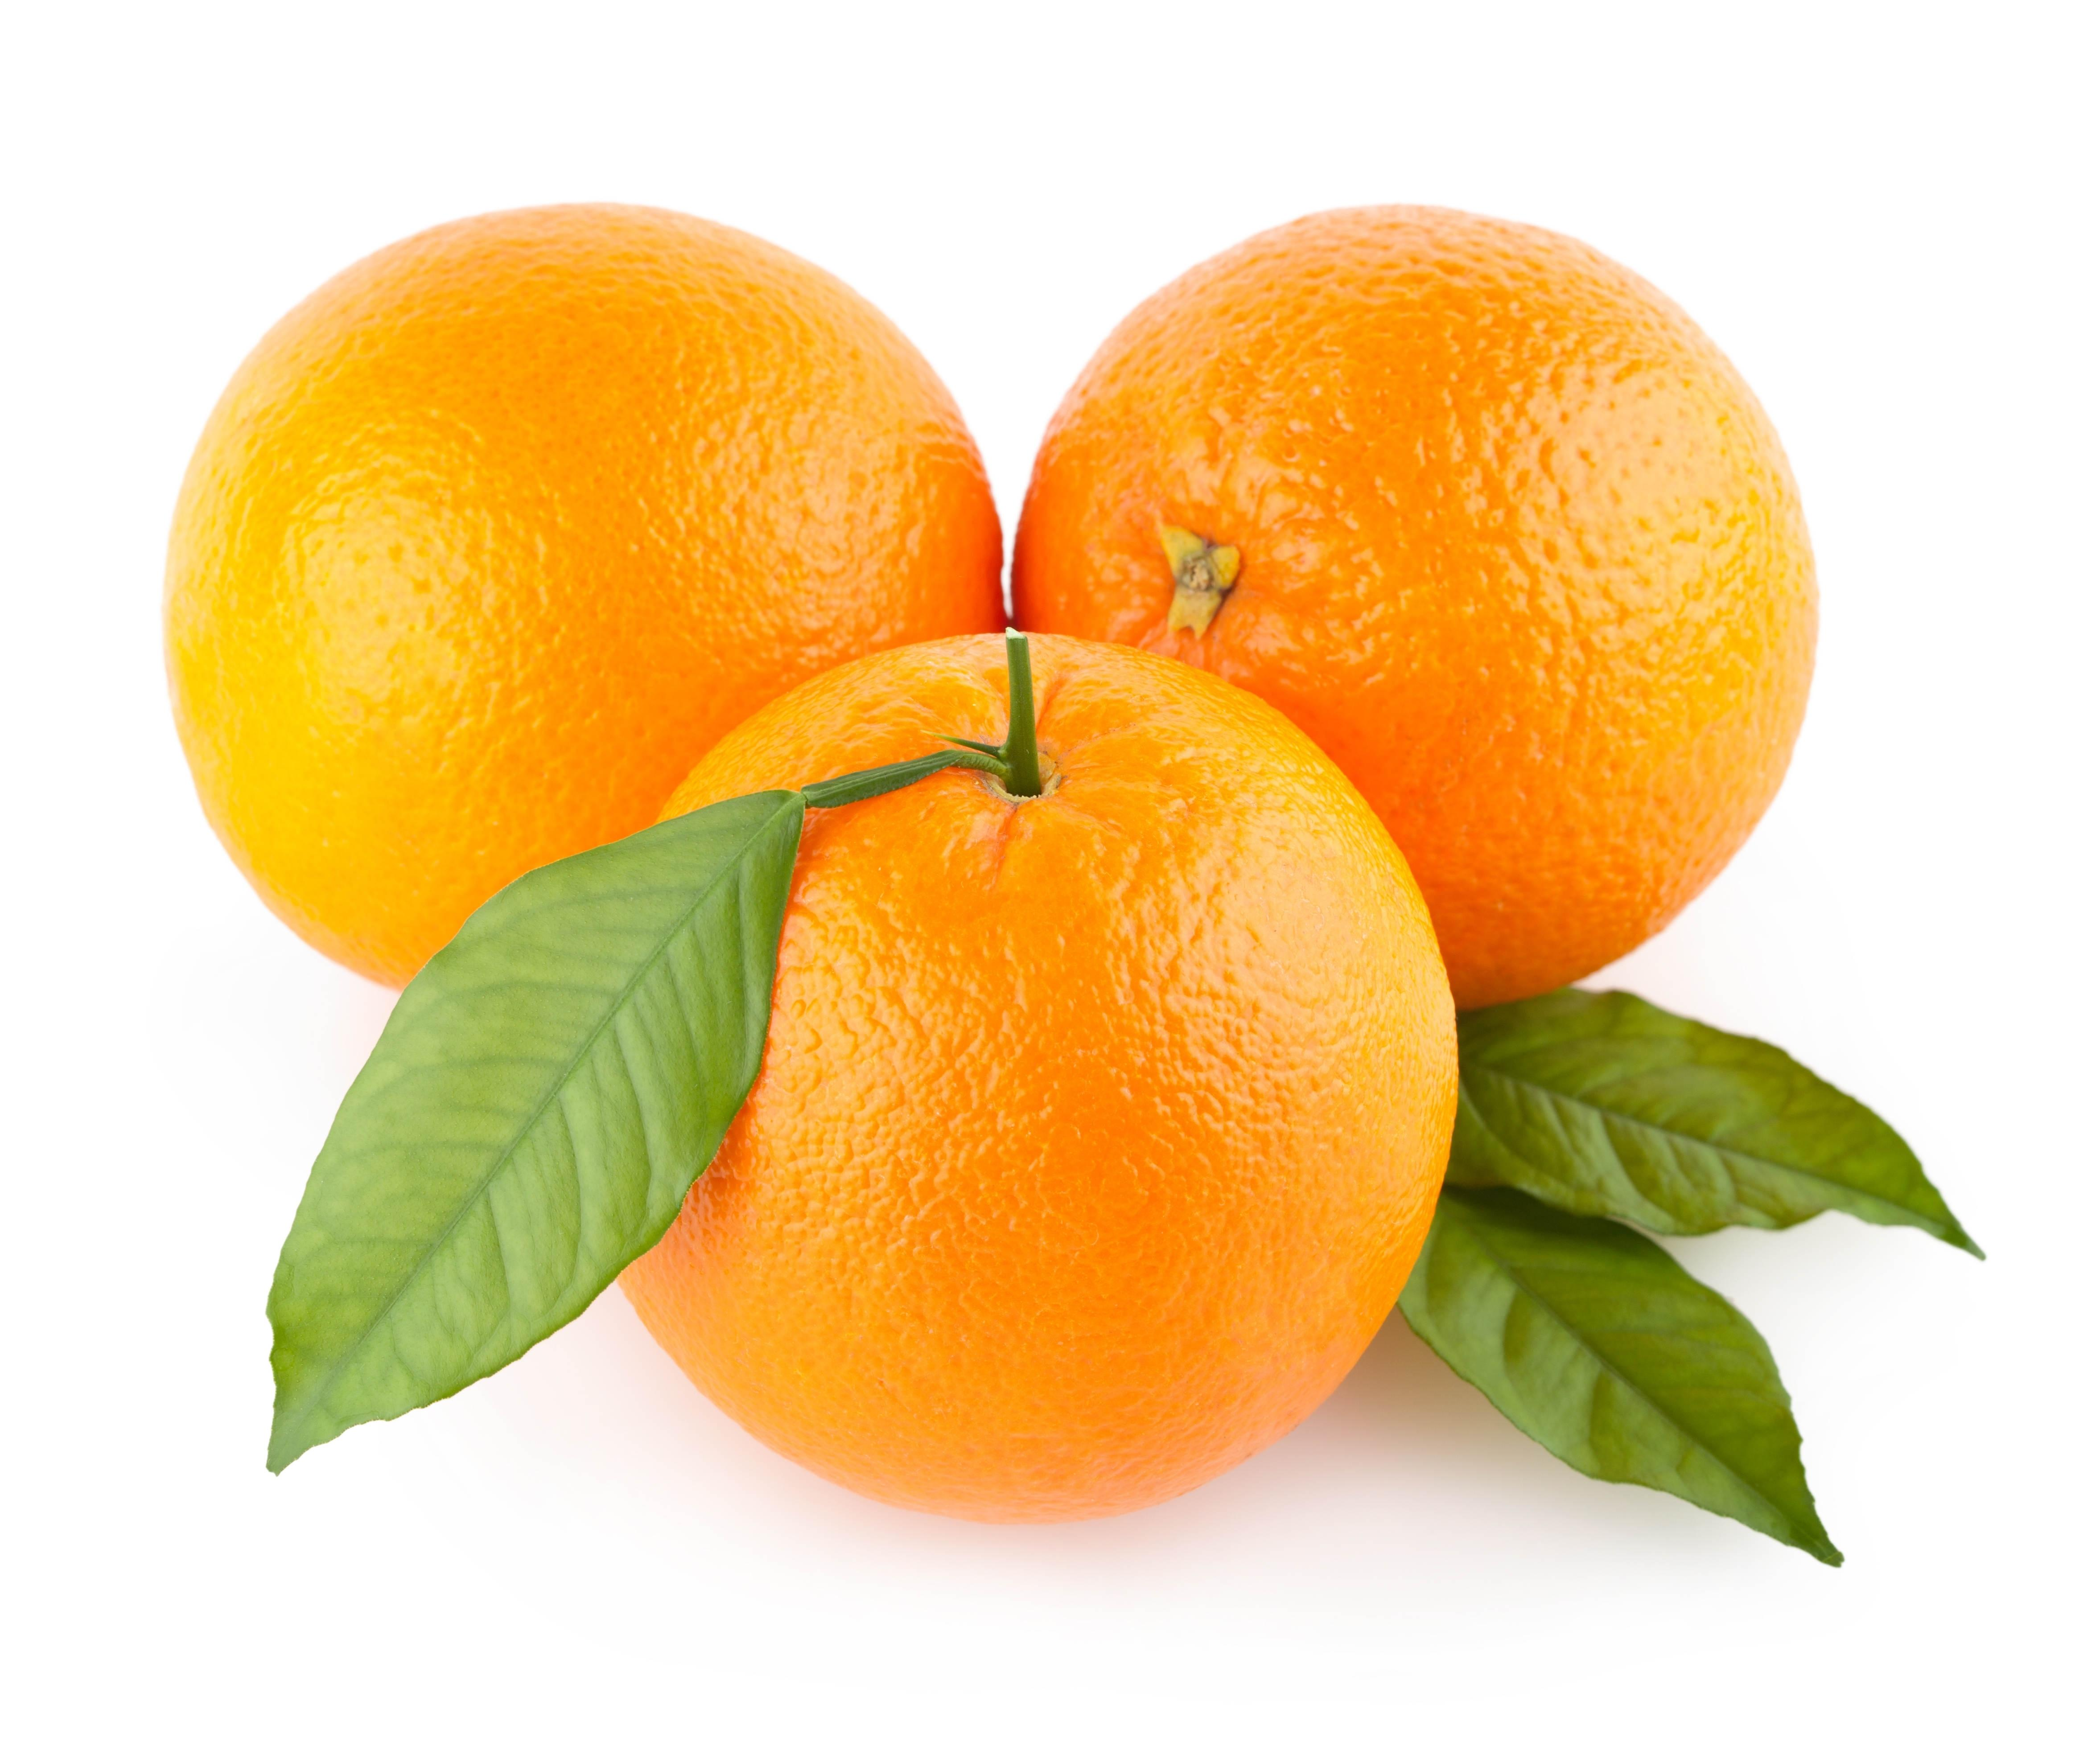Orange: (499, 638, 1510, 1587)
